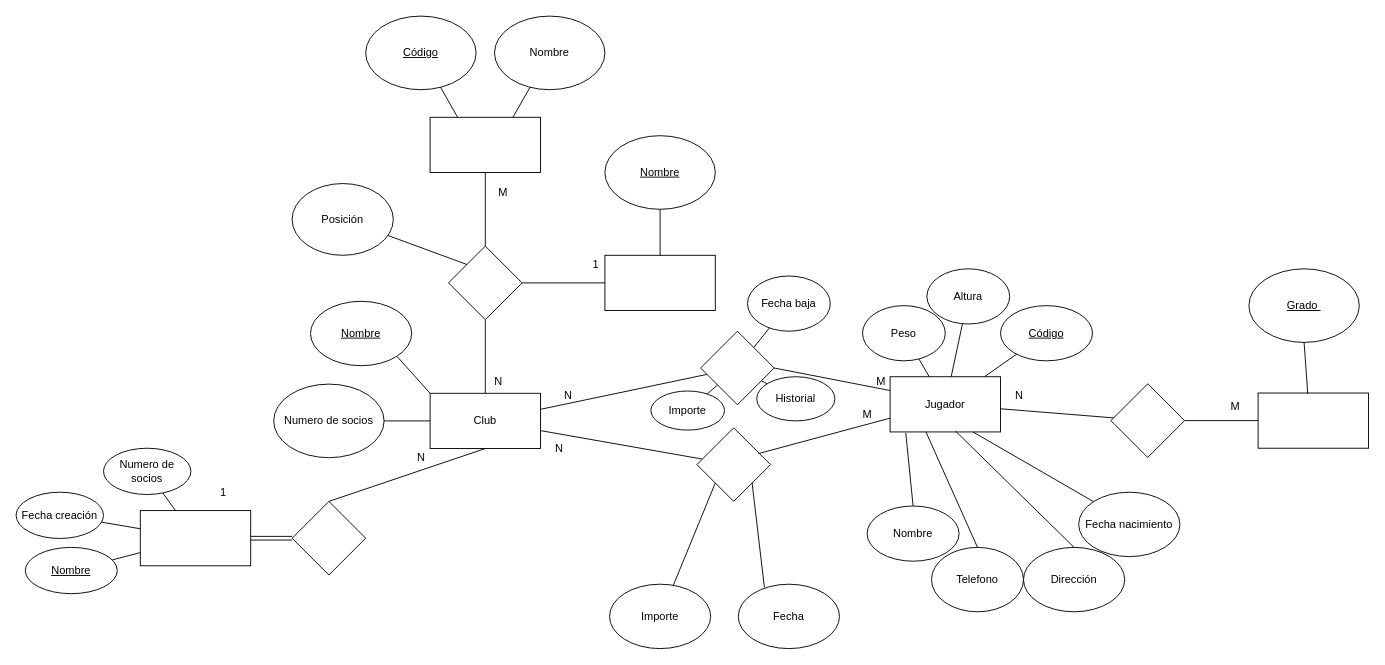
This 1385x665 diagram has some shape labels left out. The shapes that lost their labels are listed below. From the top down, each one's centre as x and y in pixels, then its label:
At point (484, 144): "Temporada".
At point (485, 282): "se clasifica en".
At point (659, 282): "Competición".
At point (737, 367): "Contrata".
At point (1147, 420): "Tiene".
At point (1312, 420): "Especialidad".
At point (733, 464): "Oferta".
At point (195, 538): "Federación".
At point (328, 537): "está en".
